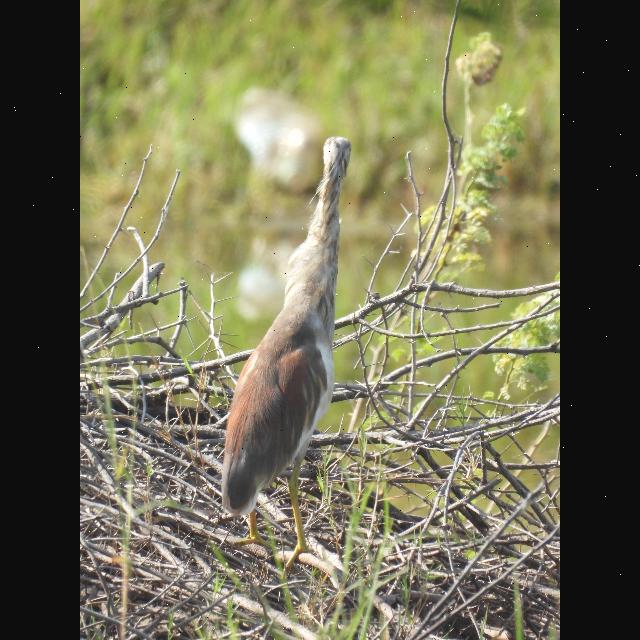heron: (202, 132, 362, 554)
